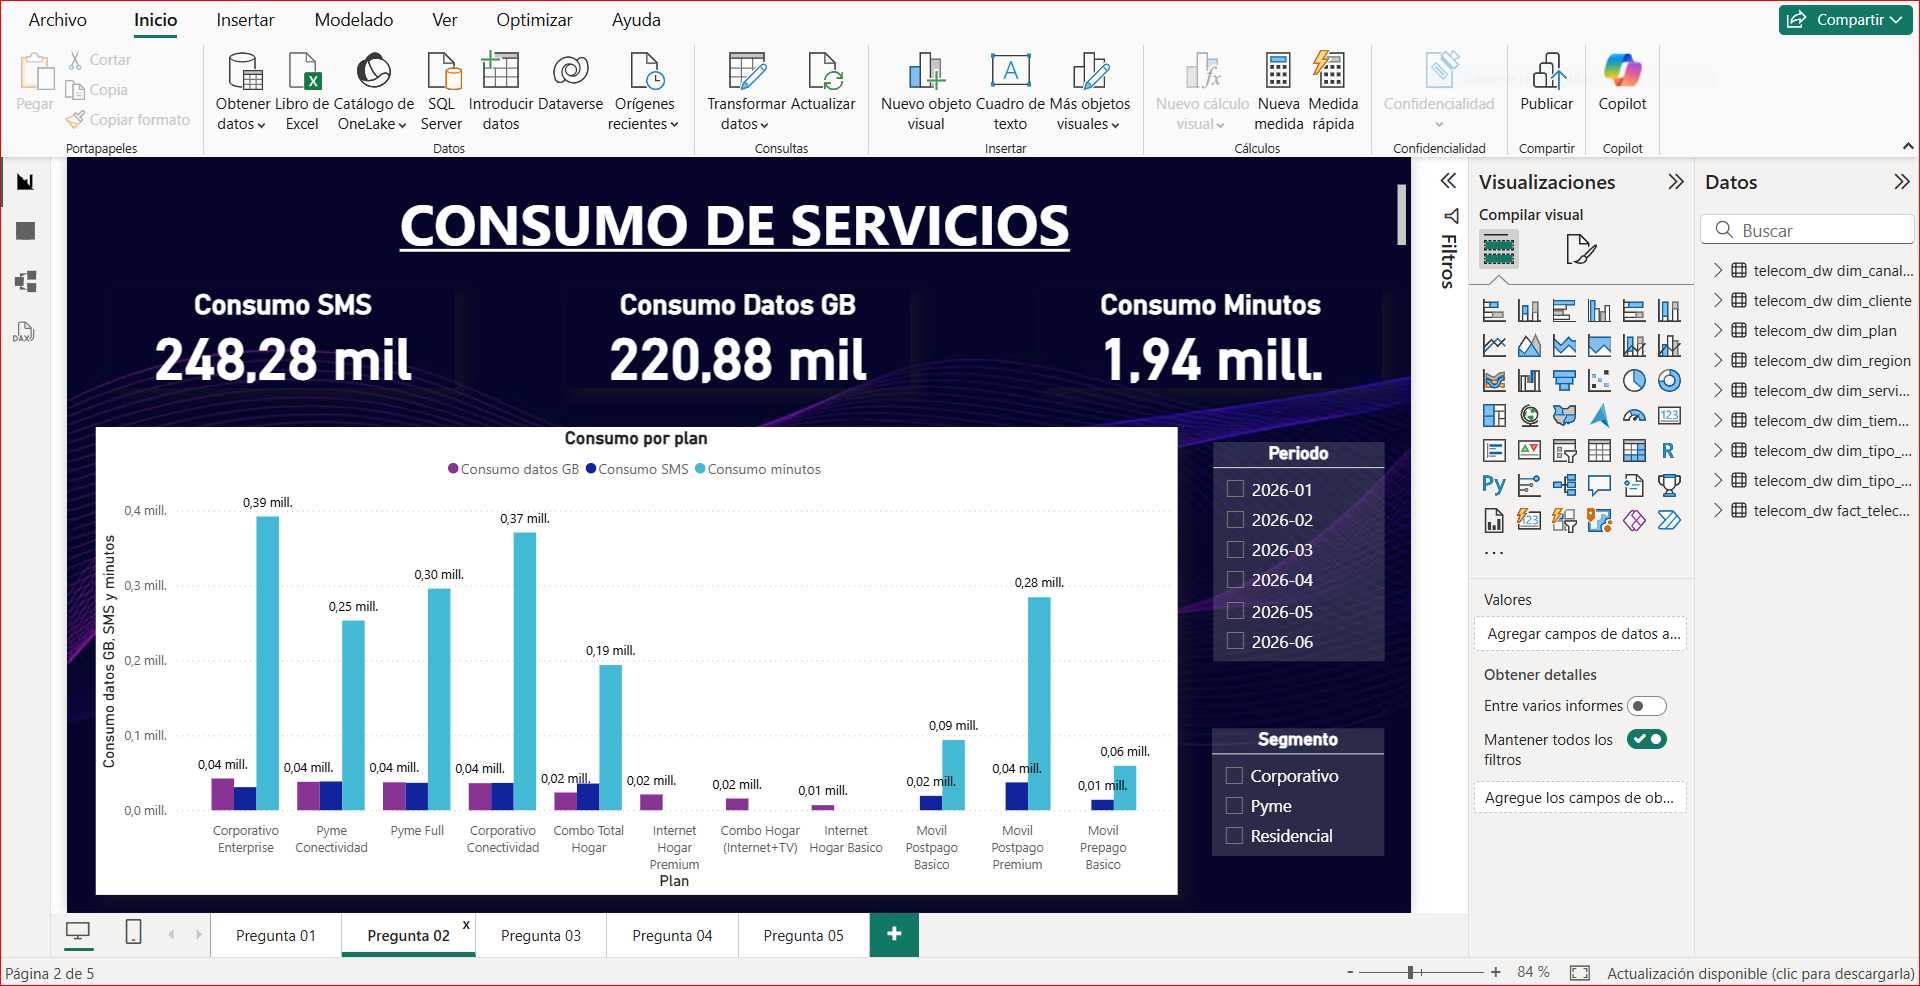

The page's visual inventory and layout, read from the dashboard file:
{"tool":"powerbi","page":{"name":"Pregunta 02","canvas":[1280,720],"ordinal":1},"visuals":[{"type":"card","title":"Consumo SMS","fields":{"Values":["telecom_dw fact_telecomunicaciones.Consumo SMS"]},"box":[41.7,125,328.3,95],"z":0},{"type":"clusteredColumnChart","title":"Consumo por plan","fields":{"Category":["telecom_dw dim_plan.nombre_plan"],"Y":["telecom_dw fact_telecomunicaciones.Consumo datos GB","telecom_dw fact_telecomunicaciones.Consumo SMS","telecom_dw fact_telecomunicaciones.Consumo minutos"]},"box":[27.1,257.1,1030,445.7],"z":1000},{"type":"slicer","title":"Segmento","fields":{"Values":["telecom_dw dim_cliente.segmento"]},"box":[1090,544.3,164.3,121.4],"z":2000},{"type":"slicer","title":"Periodo","fields":{"Values":["telecom_dw dim_tiempo.anio_mes"]},"box":[1091.4,271.4,162.9,208.6],"z":3000},{"type":"textbox","box":[0,21.2,1280,73.8],"z":4000},{"type":"card","title":"Consumo Datos GB","fields":{"Values":["telecom_dw fact_telecomunicaciones.Consumo datos GB"]},"box":[475,125,328.3,95],"z":5000},{"type":"card","title":"Consumo Minutos","fields":{"Values":["telecom_dw fact_telecomunicaciones.Consumo minutos"]},"box":[926.7,125,326.7,95],"z":6000}]}

Visuals, with their boxes on the page's 1280x720 design canvas (x1, y1, x2, y2). These are canvas units, not pixel positions in the 1920x986 screenshot, which may show the page scaled, cropped or inside an application window:
"Consumo SMS" card: bbox=[42, 125, 370, 220]
"Consumo por plan" clusteredColumnChart: bbox=[27, 257, 1057, 703]
"Segmento" slicer: bbox=[1090, 544, 1254, 666]
"Periodo" slicer: bbox=[1091, 271, 1254, 480]
textbox: bbox=[0, 21, 1280, 95]
"Consumo Datos GB" card: bbox=[475, 125, 803, 220]
"Consumo Minutos" card: bbox=[927, 125, 1253, 220]
